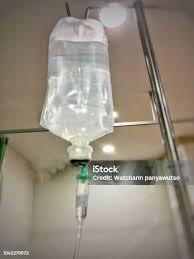Iv_Bottle: (40, 17, 112, 159)
Syringe: (73, 165, 89, 258), (76, 166, 89, 223)
